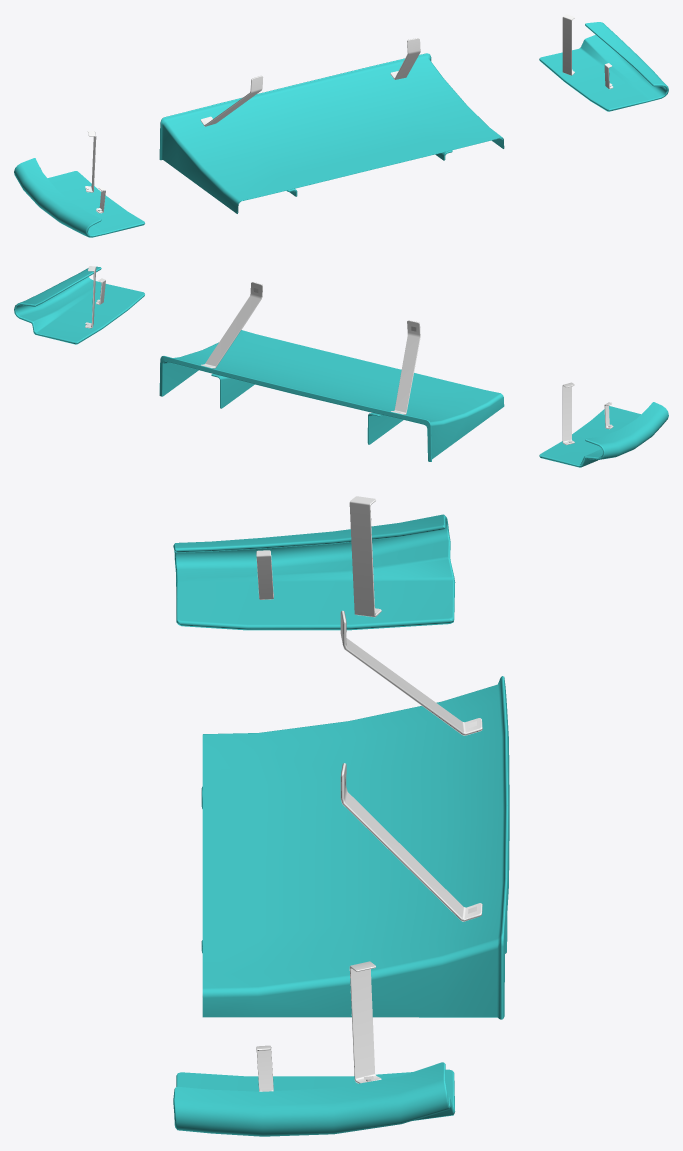
Rendered from Car_Buick_GrandNational_1987_Diffuser_SetEE.fbx.
3 views of the same model, one above another, from view 1: azimuth 30°, elevation 25°; view 2: azimuth 150°, elevation 25°; view 3: azimuth 270°, elevation 25° (orthographic). The views are drawn at different scales.
Parts seen in each view (by area): view 1: Diffuser 6; view 2: Diffuser 6; view 3: Diffuser 6.
Boxes of the visible parts, left/top/right/bottom form: Diffuser 6: left=14, top=14, right=668, bottom=237; Diffuser 6: left=14, top=266, right=668, bottom=467; Diffuser 6: left=173, top=496, right=509, bottom=1136.
Size of the model in its own units: 1.89 by 0.2961 by 0.4607.
